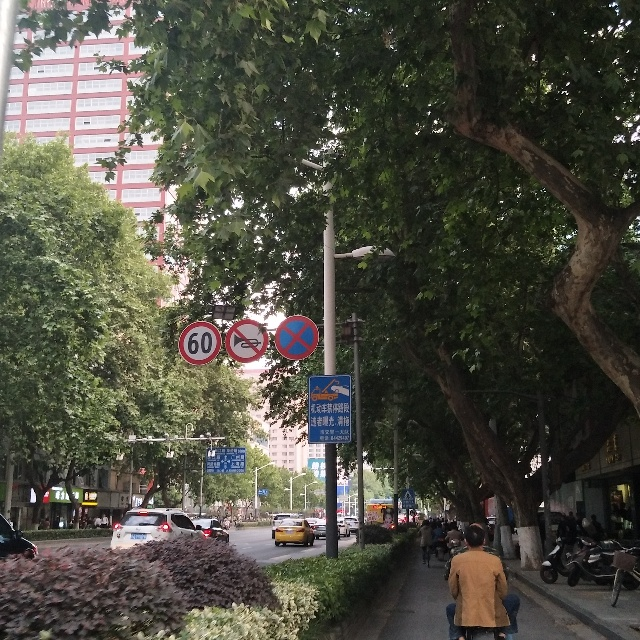nohonk: (225, 319, 269, 363)
stop: (275, 315, 319, 360)
